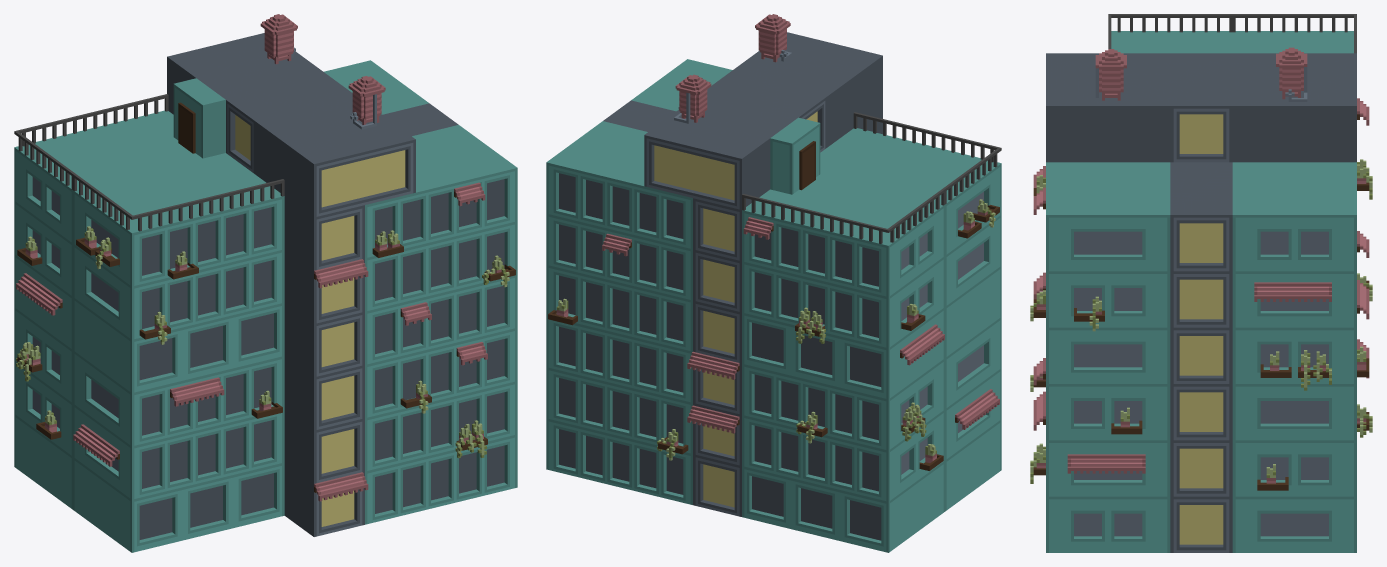
Rendered from Buildings_01-13.obj.
3 renders of one model, left to right at view 1: azimuth 30°, elevation 25°; view 2: azimuth 150°, elevation 25°; view 3: azimuth 270°, elevation 25°, orthographic. The views are drawn at different scales.
Bounding box in the file's own units: 15 × 15.6 × 11.
Materials: 1 (1 with a texture image).
